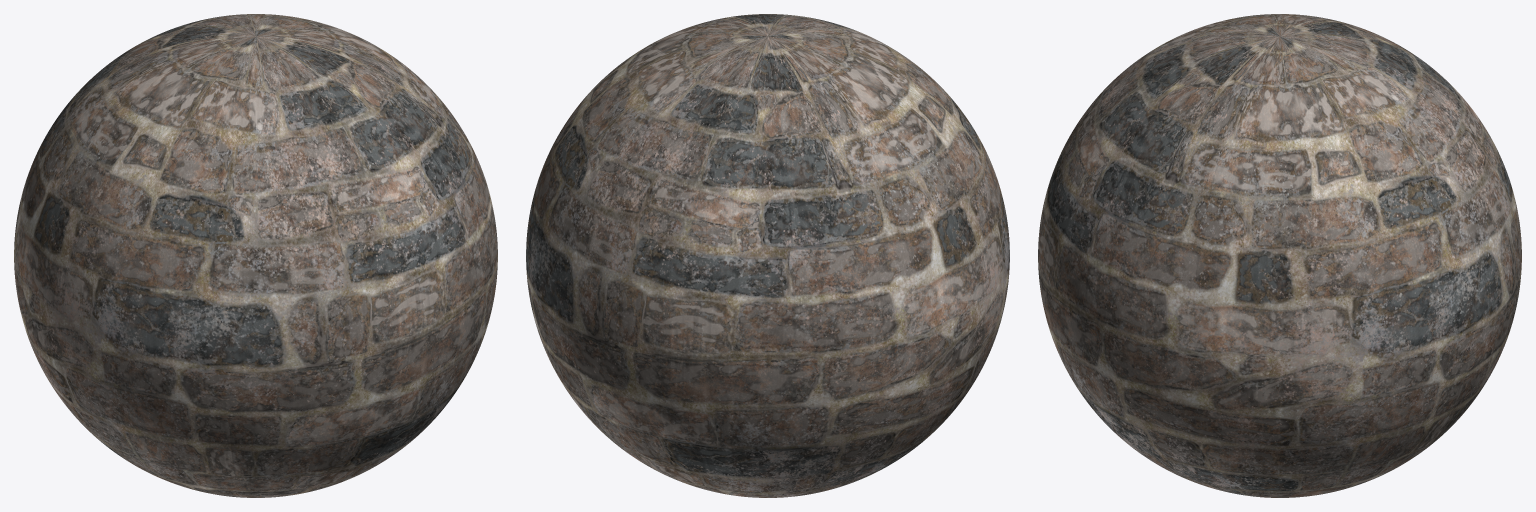
File: stone_castle_wall_material_01.glb
3 renders of one model, left to right at view 1: azimuth 30°, elevation 25°; view 2: azimuth 150°, elevation 25°; view 3: azimuth 270°, elevation 25°, orthographic.
Parts seen in each view (by area): view 1: Sphere; view 2: Sphere; view 3: Sphere.
Boxes of the visible parts, box(x1,y1,x2,y2) form: Sphere: box(14, 14, 497, 497); Sphere: box(526, 14, 1009, 497); Sphere: box(1038, 14, 1521, 497).
Bounding box in the file's own units: 99.92 × 100 × 99.92.
Materials: 1 (1 with a texture image).
